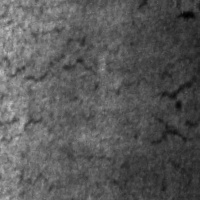crazing: (110, 54, 199, 199), (0, 0, 105, 105), (0, 111, 77, 199)
